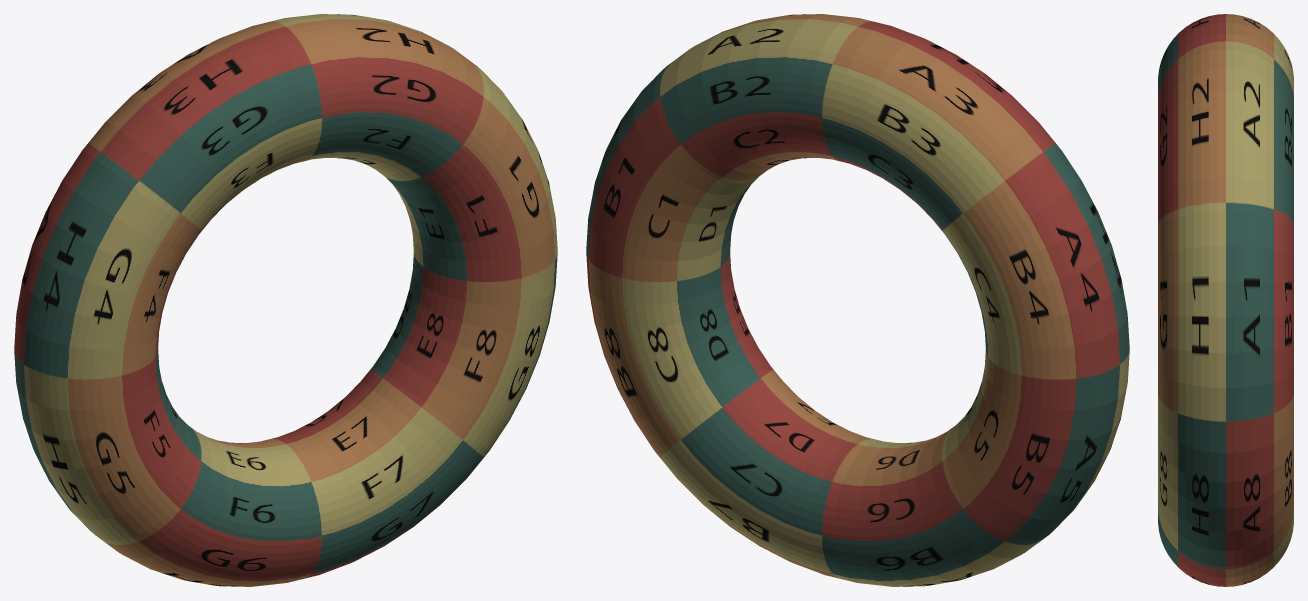
Rendered from texture_torus_R10_r12.glb.
3 views of the same model, side by side, from view 1: azimuth 30°, elevation 25°; view 2: azimuth 150°, elevation 25°; view 3: azimuth 270°, elevation 25° (orthographic). The views are drawn at different scales.
Parts seen in each view (by area): view 1: world; view 2: world; view 3: world.
Boxes of the visible parts, <box> form: world: <box>14,14,557,586</box>; world: <box>586,14,1129,586</box>; world: <box>1158,14,1293,586</box>.
Bounding box in the file's own units: 21.87 × 21.82 × 5.19.
Materials: 1 (1 with a texture image).
